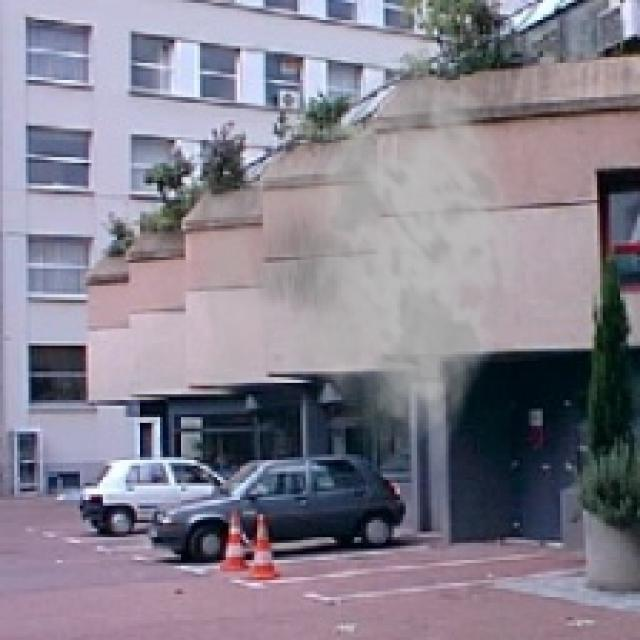Smoke: (168, 57, 526, 472)
